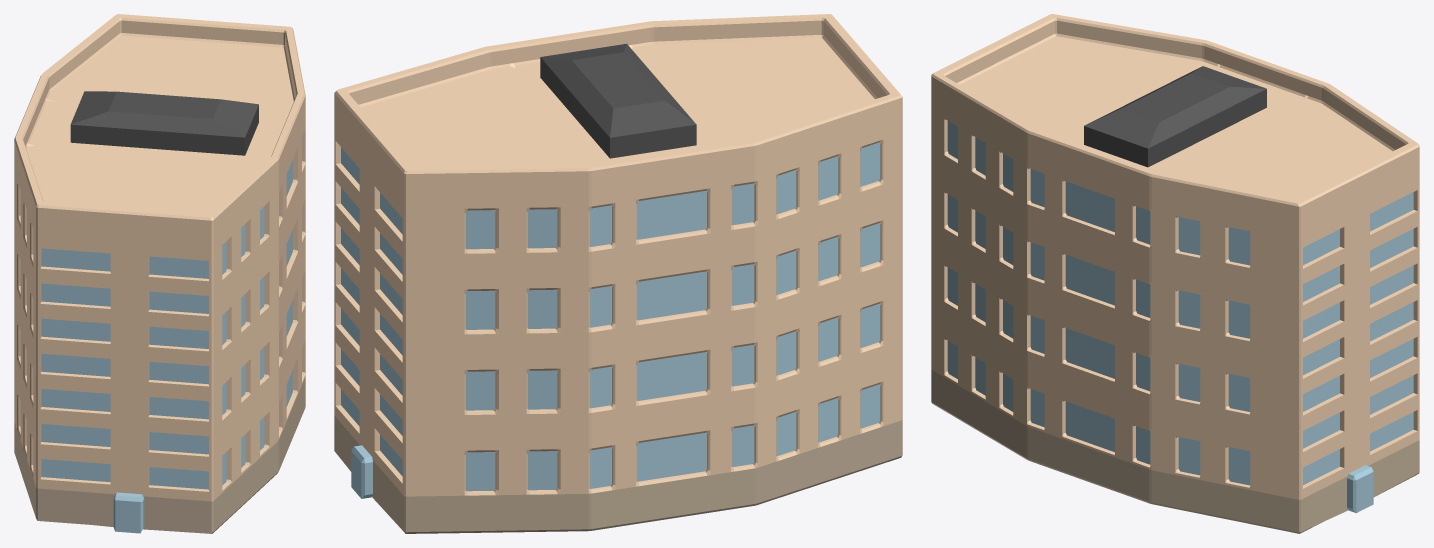
The model's file is Building12.fbx.
3 renders of one model, left to right at view 1: azimuth 30°, elevation 25°; view 2: azimuth 150°, elevation 25°; view 3: azimuth 270°, elevation 25°, orthographic. The views are drawn at different scales.
Parts seen in each view (by area): view 1: Cube.040, Cube.044, Cube.042, Cube.077, Cube.043; view 2: Cube.040, Cube.044, Cube.077, Cube.042, Cube.043; view 3: Cube.040, Cube.044, Cube.077, Cube.042, Cube.043.
Part boxes in pixels (x1=…): Cube.040: x1=14, y1=14, x2=305, y2=501; Cube.044: x1=41, y1=159, x2=292, y2=489; Cube.042: x1=70, y1=91, x2=258, y2=155; Cube.077: x1=14, y1=376, x2=305, y2=533; Cube.043: x1=113, y1=492, x2=144, y2=533; Cube.040: x1=334, y1=14, x2=902, y2=496; Cube.044: x1=341, y1=142, x2=880, y2=491; Cube.077: x1=334, y1=416, x2=902, y2=533; Cube.042: x1=540, y1=43, x2=696, y2=158; Cube.043: x1=351, y1=445, x2=372, y2=498; Cube.040: x1=931, y1=14, x2=1419, y2=499; Cube.044: x1=947, y1=121, x2=1413, y2=485; Cube.077: x1=931, y1=370, x2=1419, y2=533; Cube.042: x1=1084, y1=66, x2=1266, y2=167; Cube.043: x1=1347, y1=465, x2=1373, y2=513.
Size of the model in its own units: 4350 by 3811 by 4696.
